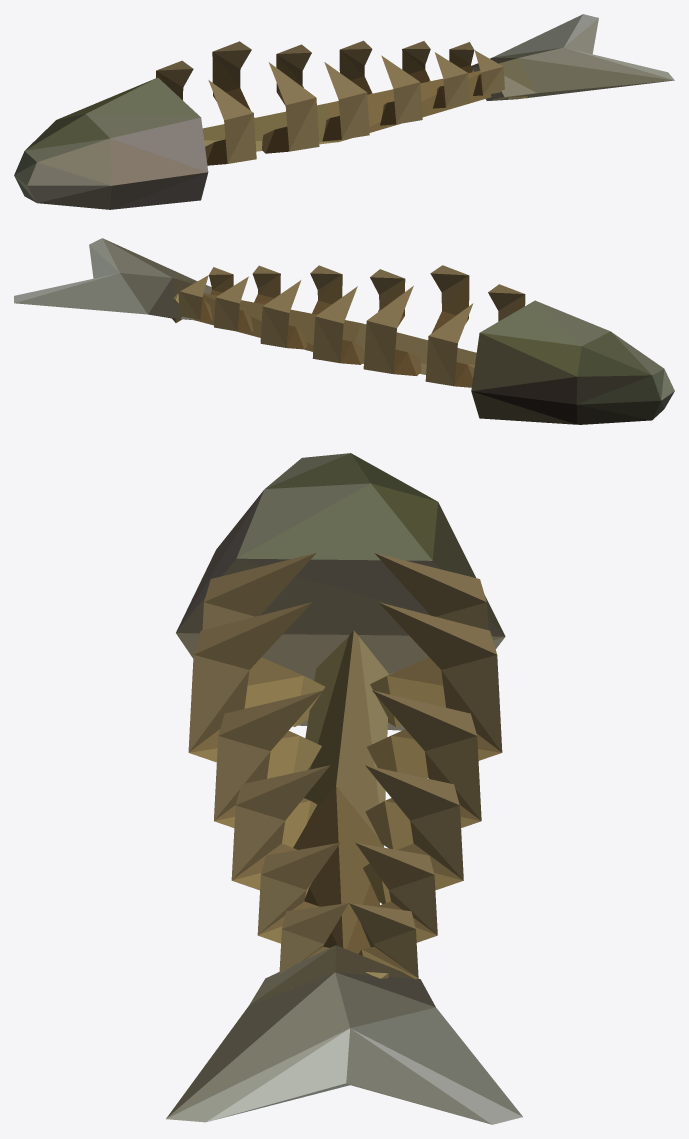
The model's file is prop_junk_fishbone.fbx.
3 views of the same model, one above another, from view 1: azimuth 30°, elevation 25°; view 2: azimuth 150°, elevation 25°; view 3: azimuth 270°, elevation 25° (orthographic). The views are drawn at different scales.
Visible parts, largest first — view 1: prop_junk_fishbone; view 2: prop_junk_fishbone; view 3: prop_junk_fishbone.
Boxes of the visible parts, <box> form: prop_junk_fishbone: <box>14,14,674,209</box>; prop_junk_fishbone: <box>14,238,674,424</box>; prop_junk_fishbone: <box>166,453,522,1124</box>.
Size of the model in its own units: 1.44 by 0.2328 by 0.3638.
